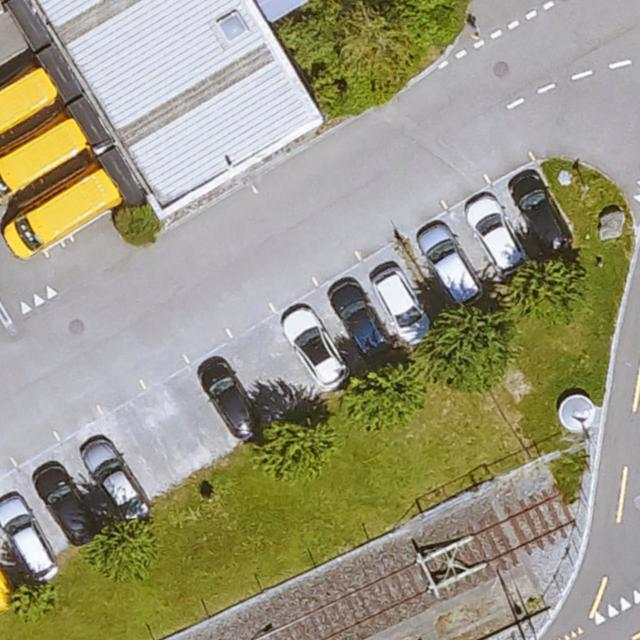tree: (301, 0, 418, 96), (418, 304, 513, 390), (506, 256, 590, 325), (339, 368, 426, 431), (88, 516, 159, 582), (258, 420, 336, 480), (112, 202, 163, 252), (10, 581, 59, 622)
